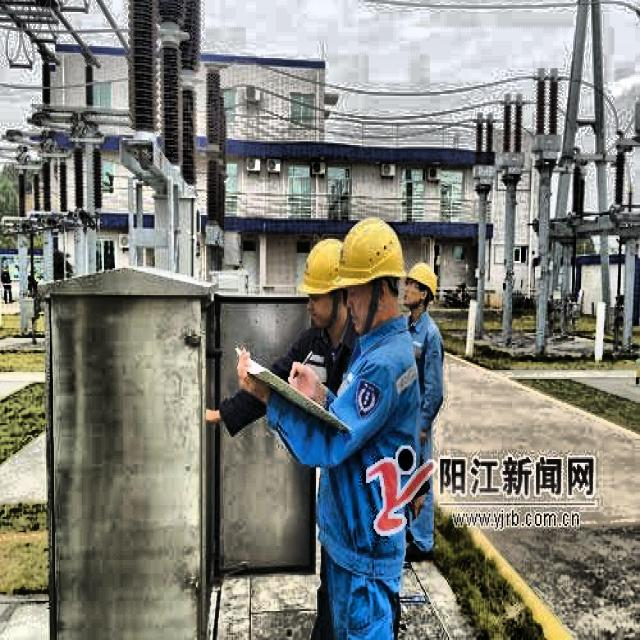helmet: (337, 210, 408, 331), (301, 230, 349, 342), (401, 260, 439, 319)
